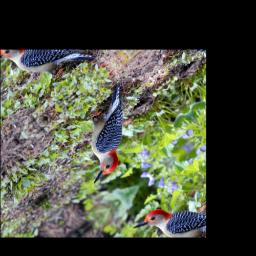Woodpecker: (51, 81, 164, 185)
